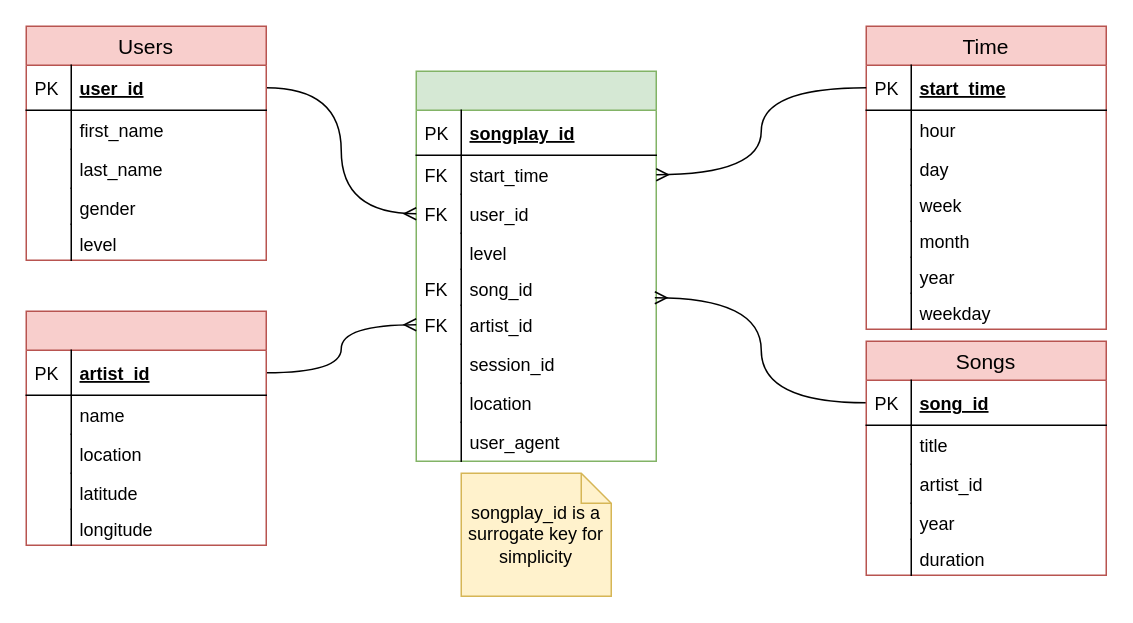
Image size: 1133x623. Some labels were removed from this diagram. Here are the shapes that lost their labels. From the top down, the box of each, then its label:
(415, 70, 656, 461): Songplays
(25, 310, 266, 545): Artists
